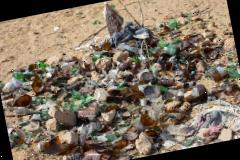glass: (42, 134, 78, 158), (155, 35, 180, 58), (138, 72, 154, 84)
